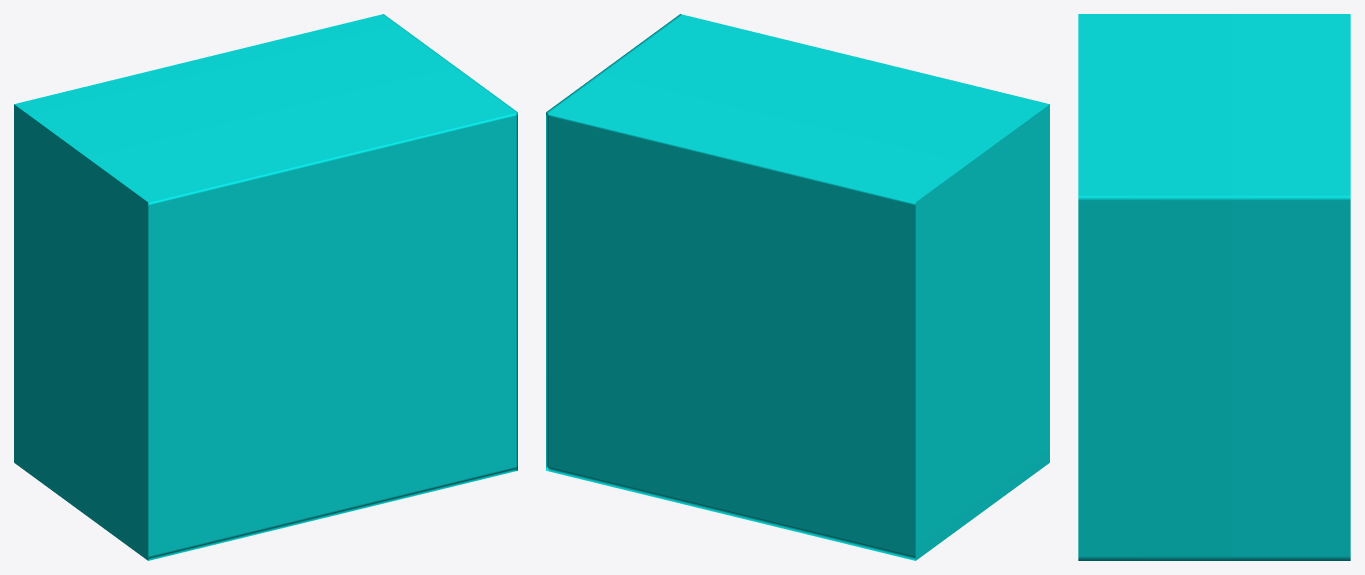
Rendered from Book_Multi_01.fbx.
The picture shows the model from 3 angles, left to right: view 1: azimuth 30°, elevation 25°; view 2: azimuth 150°, elevation 25°; view 3: azimuth 270°, elevation 25°; orthographic projection.
Parts seen in each view (by area): view 1: Book_Multi_01; view 2: Book_Multi_01; view 3: Book_Multi_01.
Part boxes in pixels (x1,y1,x2,y2): Book_Multi_01: [14, 14, 517, 560]; Book_Multi_01: [546, 14, 1049, 560]; Book_Multi_01: [1078, 14, 1350, 560].
Size of the model in its own units: 34.04 by 31.55 by 21.42.
